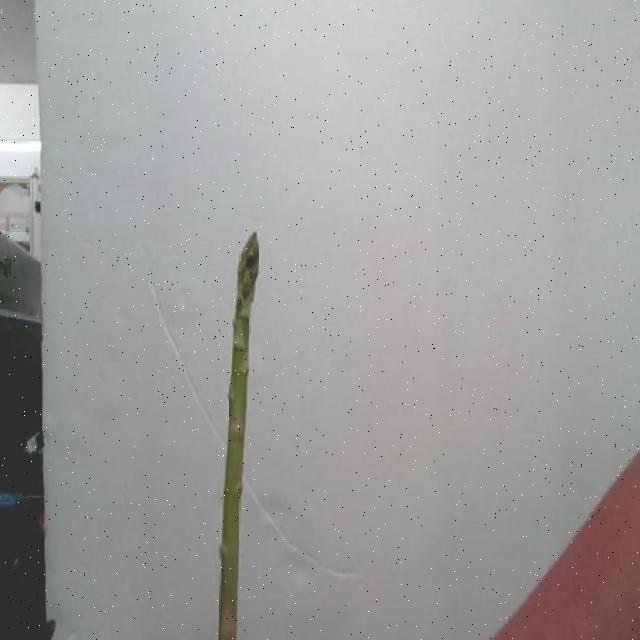aspargus: (218, 235, 262, 640)
